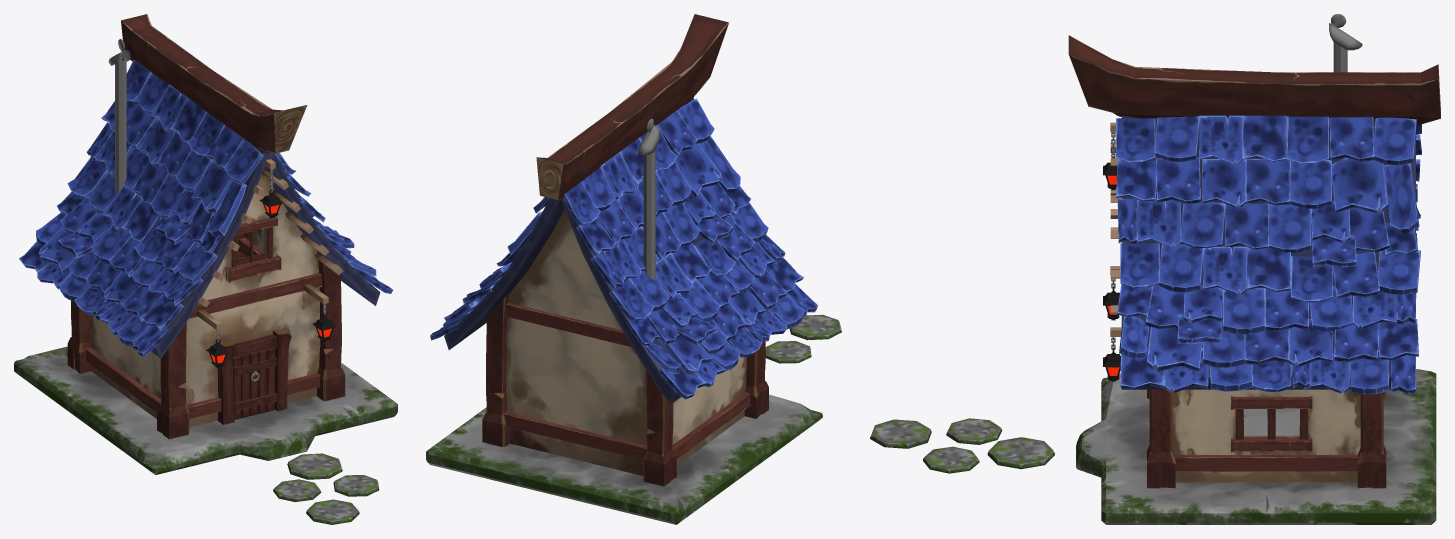
File: cottage.glb
The picture shows the model from 3 angles, left to right: view 1: azimuth 30°, elevation 25°; view 2: azimuth 150°, elevation 25°; view 3: azimuth 270°, elevation 25°; orthographic projection. The views are drawn at different scales.
Parts seen in each view (by area): view 1: cottage; view 2: cottage; view 3: cottage.
Part boxes in pixels (box(x1,y1,x2,y2)): cottage: box(14, 14, 397, 524); cottage: box(426, 14, 841, 524); cottage: box(870, 14, 1440, 524).
Bounding box in the file's own units: 2.73 × 3.58 × 4.49.
Materials: 10 (7 with a texture image).
